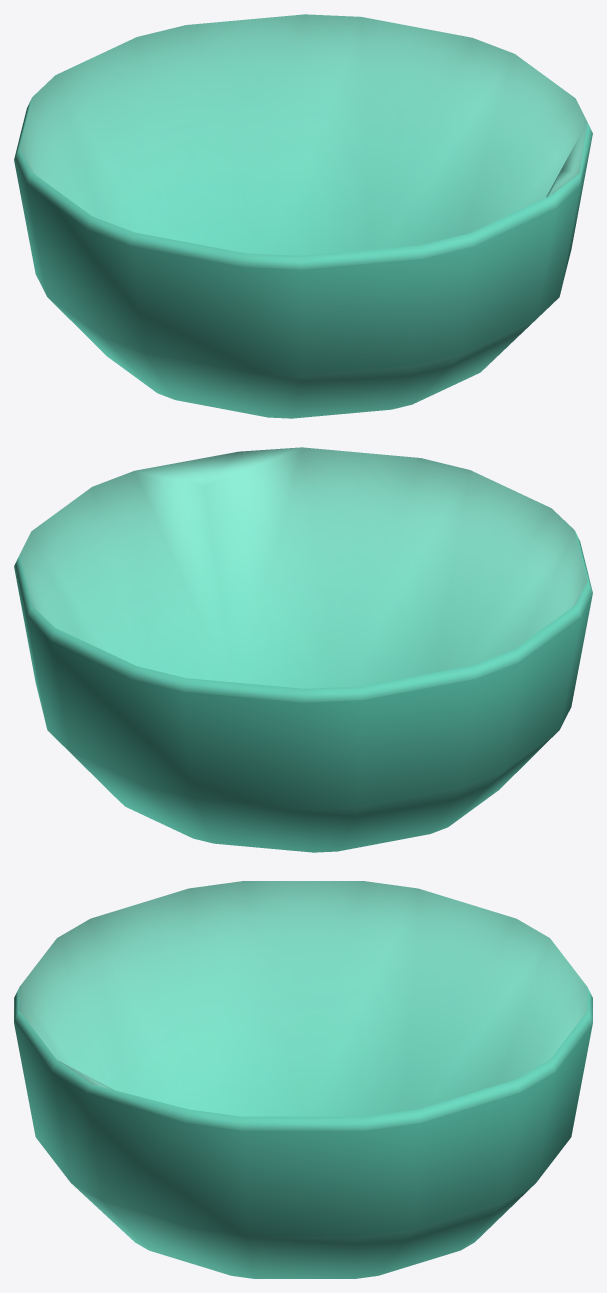
Rendered from Bowl_A.FBX.
3 renders of one model, top to bottom at view 1: azimuth 30°, elevation 25°; view 2: azimuth 150°, elevation 25°; view 3: azimuth 270°, elevation 25°, orthographic.
Parts seen in each view (by area): view 1: Bowl; view 2: Bowl; view 3: Bowl.
Boxes of the visible parts, bbox=[...] form: Bowl: bbox=[14, 14, 592, 418]; Bowl: bbox=[14, 447, 592, 852]; Bowl: bbox=[14, 881, 592, 1278].
Size of the model in its own units: 74.62 by 28.7 by 75.96.
